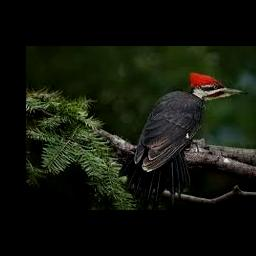Woodpecker: (120, 71, 246, 210)
